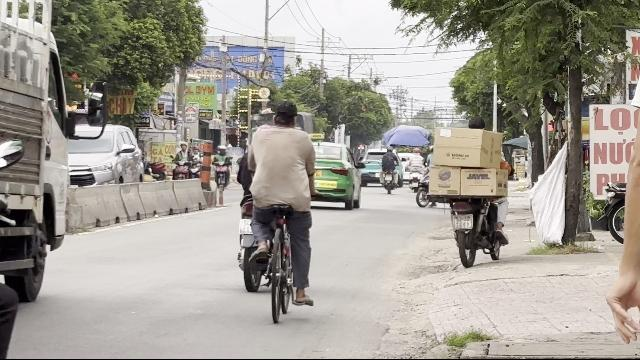licenseplate: (450, 212, 472, 228)
motorcyclist: (422, 113, 514, 267)
nohelmet: (468, 116, 486, 132)
